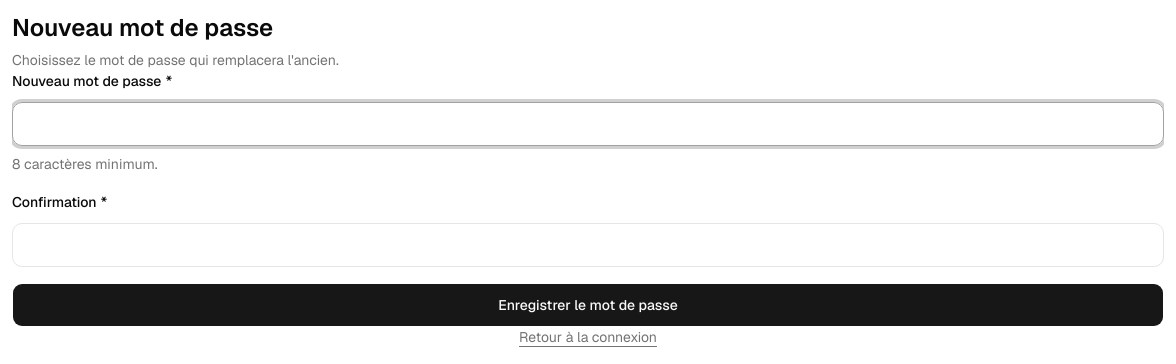
ResetPasswordScreen › refuses a password under the minimum length
This screenshot has width=1176, height=364.
Type "court" into the password field labelled "Nouveau mot de passe".
click(588, 124); type("court")  # box left=12, top=102, right=1164, bottom=146
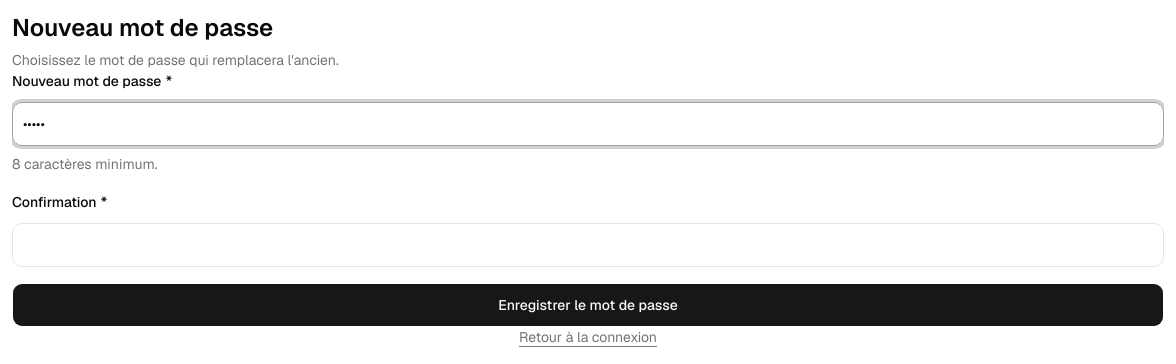
Type "court" into the password field labelled "Confirmation".
click(588, 245); type("court")  # box left=12, top=223, right=1164, bottom=267
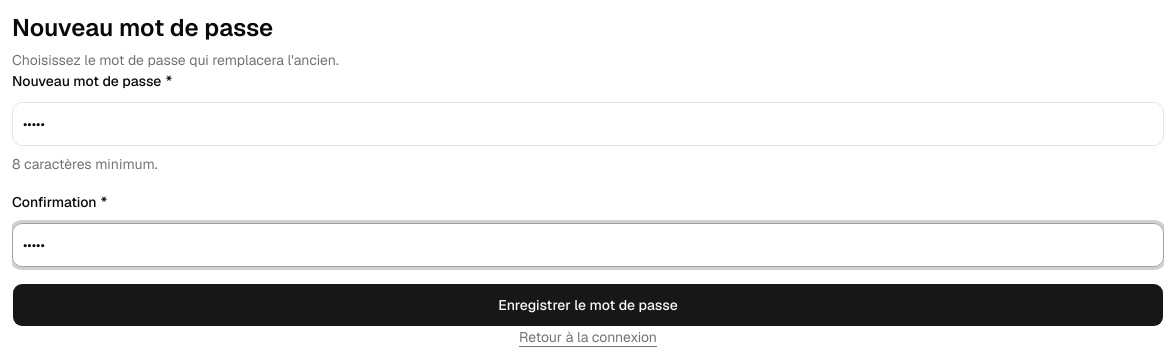
Click the button "Enregistrer le mot de passe".
click(588, 305)  # box left=12, top=283, right=1164, bottom=327
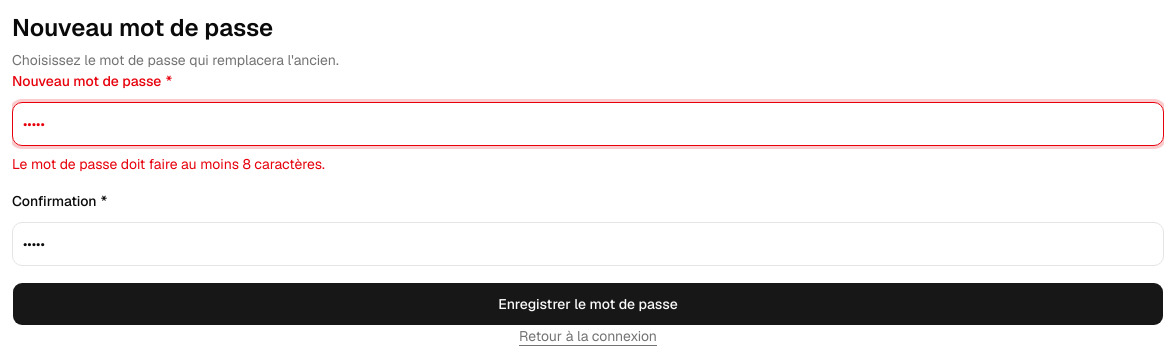
Expected: the text "Le mot de passe doit faire au moins 8 caractères." is shown, left=12, top=155, right=325, bottom=173
